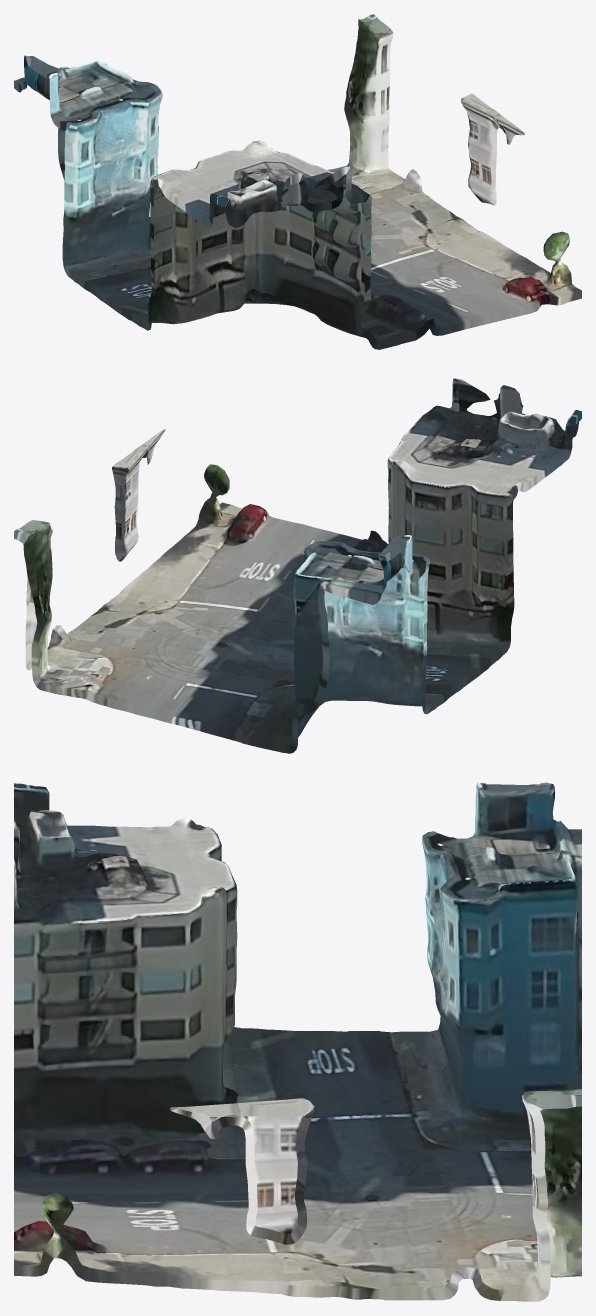
File: z20-167748-405191-h0-yup-uvflip-v3-world.glb
3 renders of one model, top to bottom at view 1: azimuth 30°, elevation 25°; view 2: azimuth 150°, elevation 25°; view 3: azimuth 270°, elevation 25°, orthographic. The views are drawn at different scales.
Bounding box in the file's own units: 30.16 × 17.56 × 30.32.
1 material, 1 textured.
